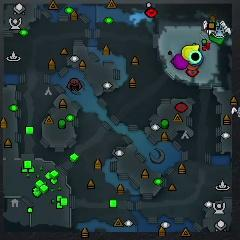p2Clone: (190, 51, 202, 64)
p3: (172, 54, 189, 70)
p4: (181, 44, 200, 62)
p5: (186, 63, 199, 70)
x4: (210, 32, 226, 45)
